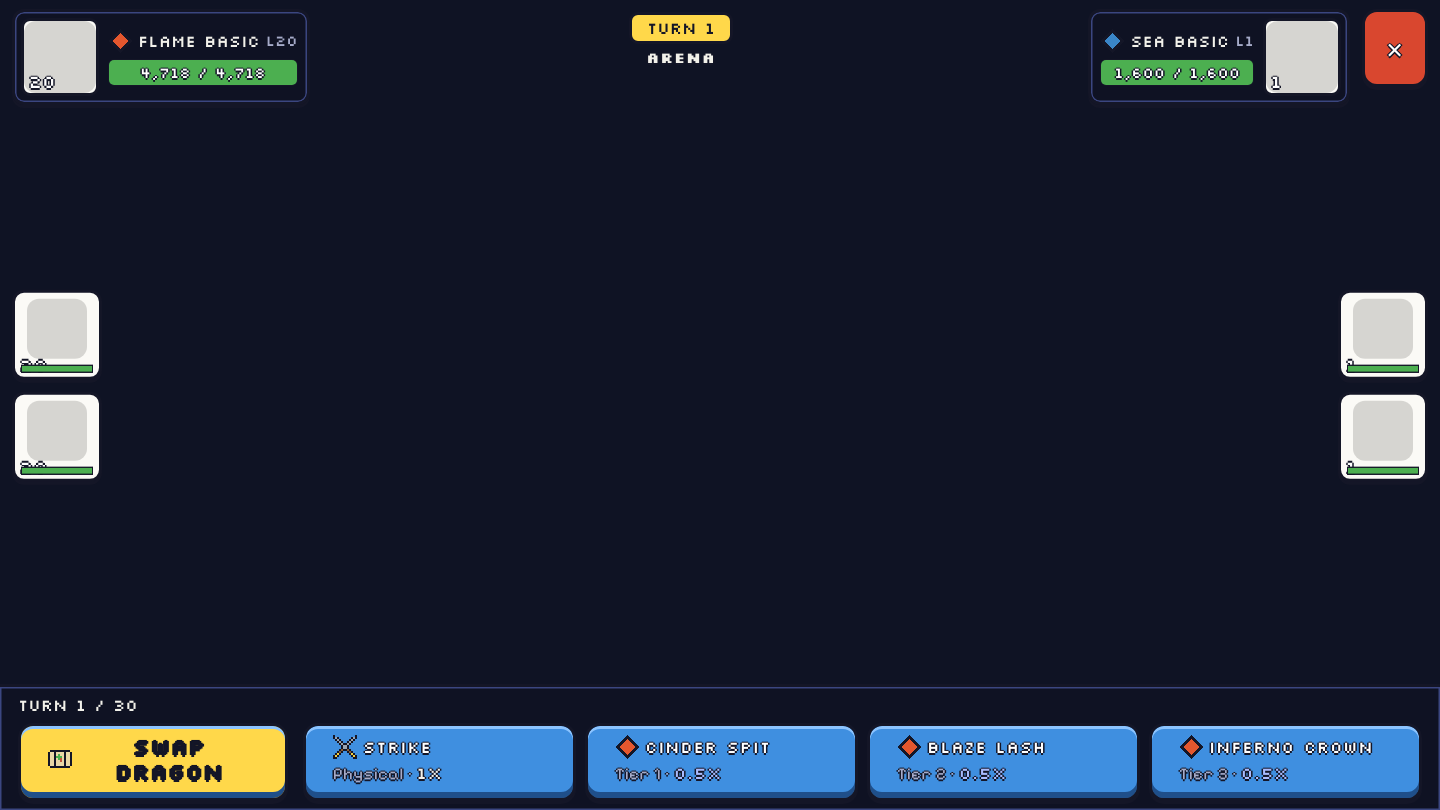
Test case: BattlePanel › your bench runs down the side as Swap buttons; one tap swaps and uses the turn (R101)
Click the button named "swap to " at (57, 335), box [12,290,102,380]
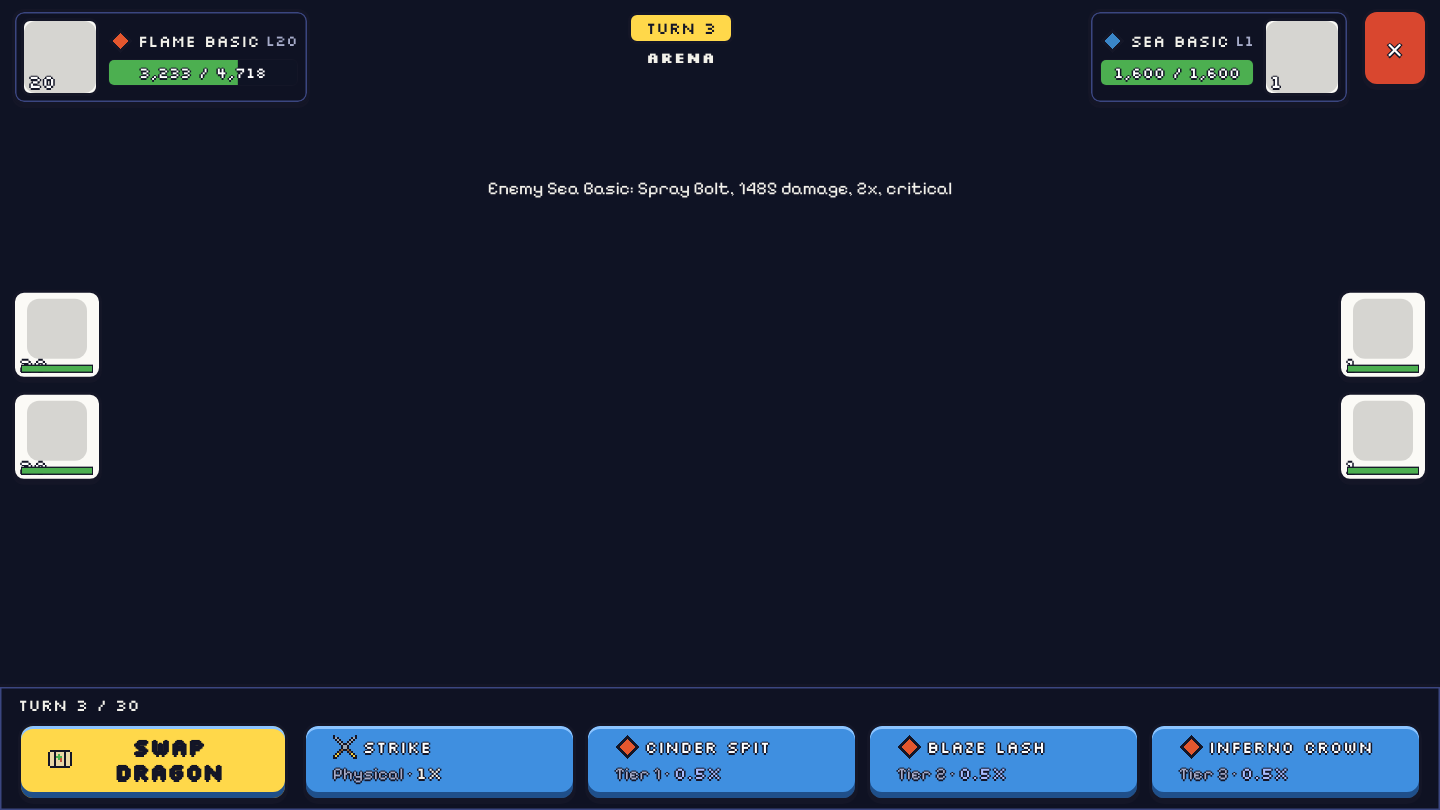
Expected: the text "Turn 3 / 30" is shown, [18,693,140,717]
